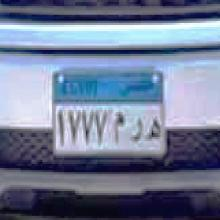1: (56, 107, 66, 147)
7: (94, 107, 107, 146), (68, 108, 81, 144), (82, 108, 94, 144)
haa: (146, 113, 161, 148)
meem: (114, 107, 125, 148)
raa: (129, 115, 144, 147)
